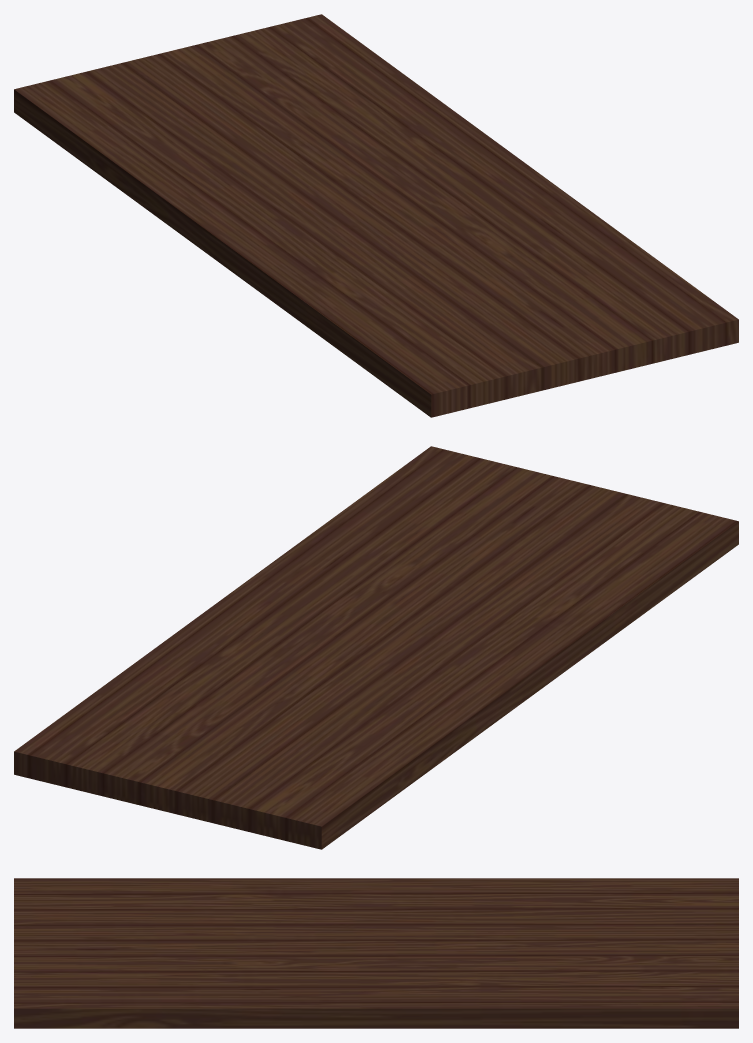
The model's file is mesa.fbx.
3 views of the same model, one above another, from view 1: azimuth 30°, elevation 25°; view 2: azimuth 150°, elevation 25°; view 3: azimuth 270°, elevation 25° (orthographic). The views are drawn at different scales.
Parts seen in each view (by area): view 1: topo da mesa.002; view 2: topo da mesa.002; view 3: topo da mesa.002.
Part boxes in pixels (bbox=[...]): topo da mesa.002: bbox=[14, 14, 738, 417]; topo da mesa.002: bbox=[14, 446, 738, 849]; topo da mesa.002: bbox=[14, 878, 738, 1028].
Bounding box in the file's own units: 459 × 32.95 × 1077.
